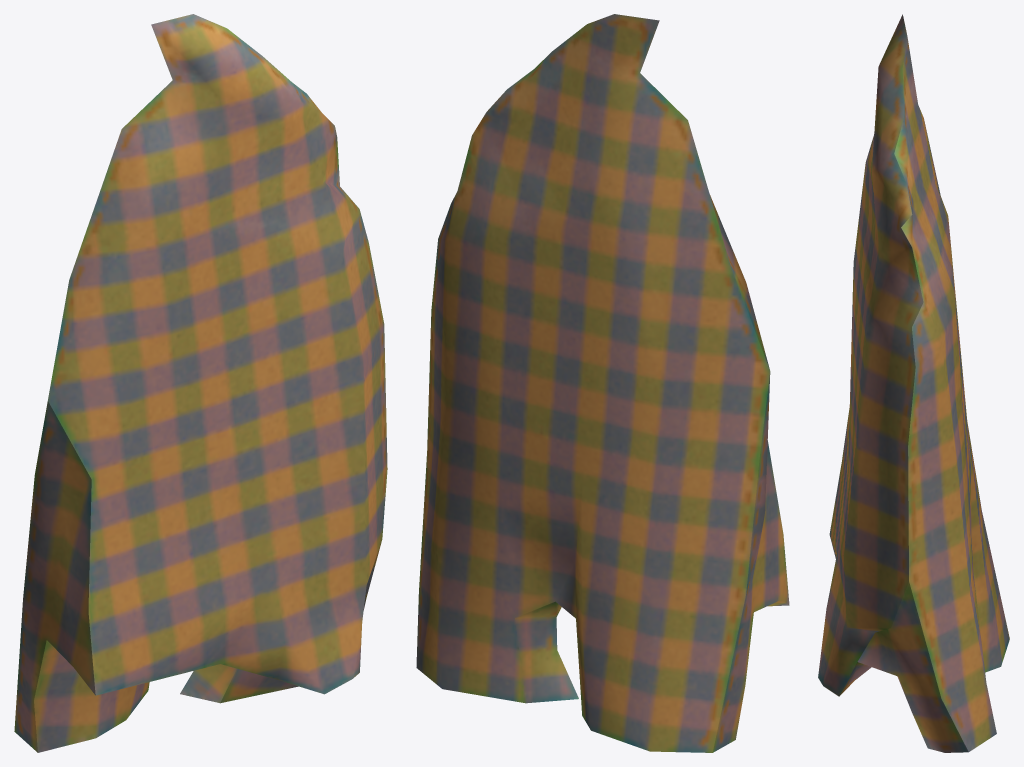
The model's file is Prfb_Hangclothes__2.fbx.
3 views of the same model, side by side, from view 1: azimuth 30°, elevation 25°; view 2: azimuth 150°, elevation 25°; view 3: azimuth 270°, elevation 25° (orthographic). The views are drawn at different scales.
Parts seen in each view (by area): view 1: Mat_Hangclothes; view 2: Mat_Hangclothes; view 3: Mat_Hangclothes.
Part boxes in pixels (bbox=[...]): Mat_Hangclothes: bbox=[14, 14, 387, 752]; Mat_Hangclothes: bbox=[416, 14, 789, 752]; Mat_Hangclothes: bbox=[818, 14, 1009, 752].
Bounding box in the file's own units: 0.4615 × 0.9027 × 0.2404.
1 material, 1 textured.
